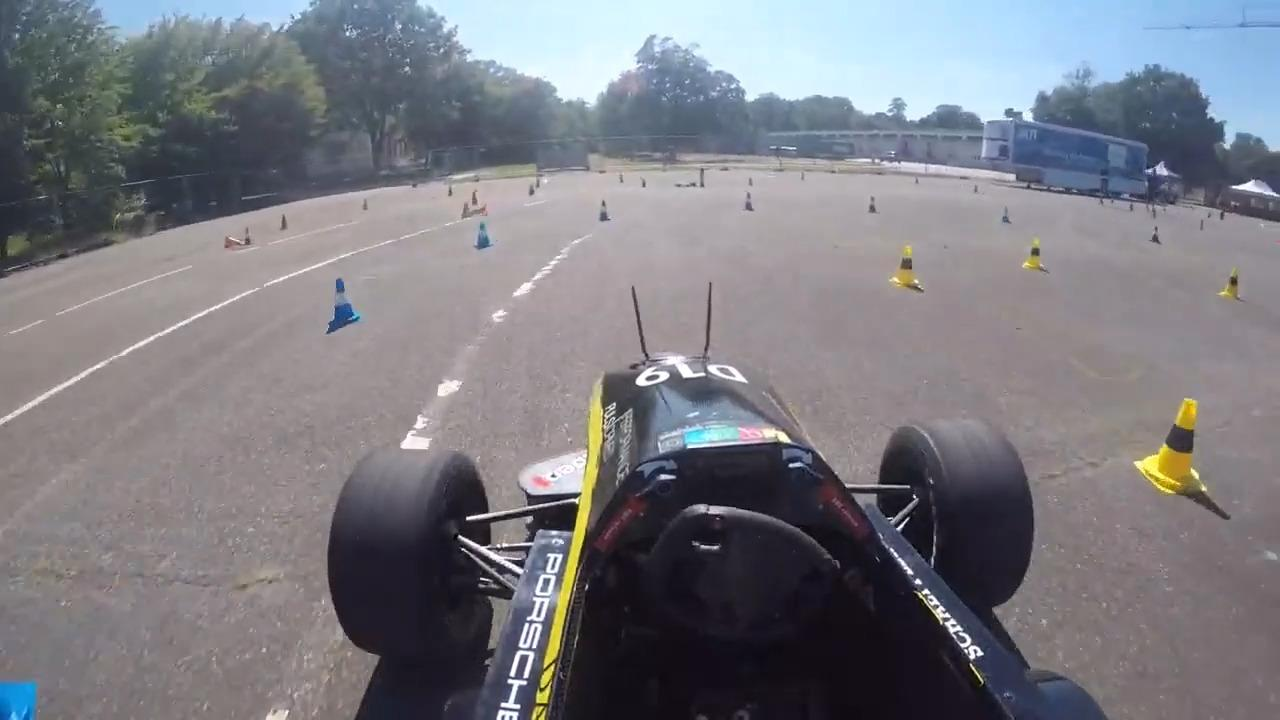blue_cone: (319, 279, 360, 328), (592, 198, 616, 227), (468, 223, 498, 246)
yellow_cone: (1137, 399, 1204, 498), (888, 244, 917, 288)
